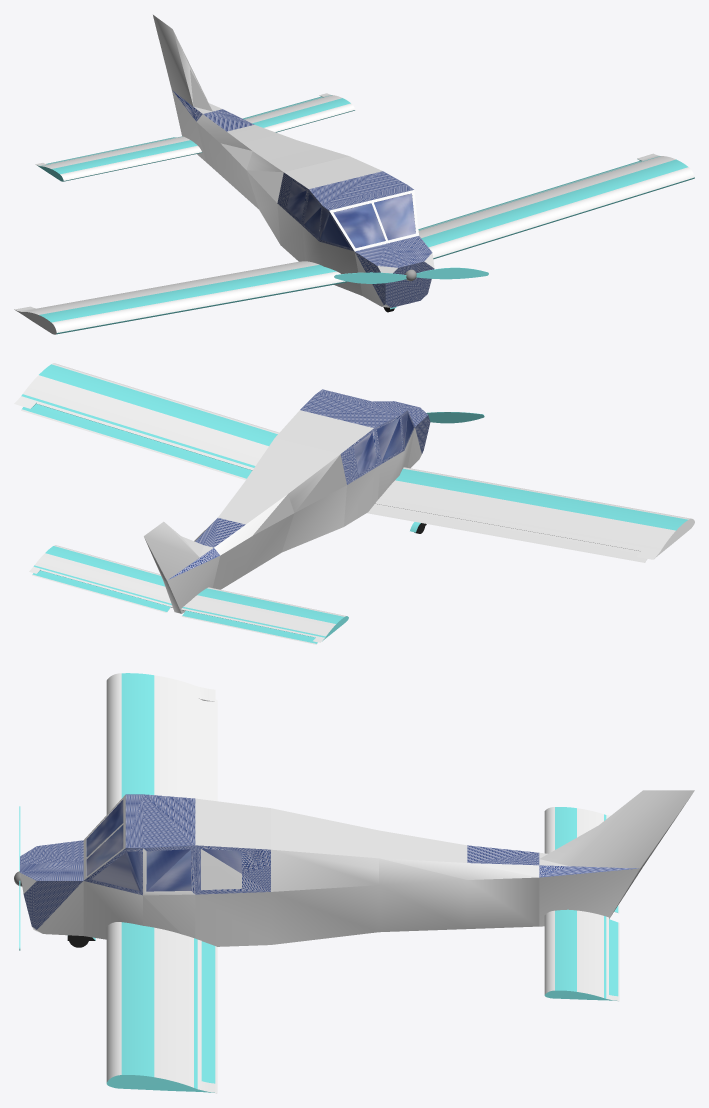
The model's file is This might work as plane test thing here u go matt.fbx.
3 renders of one model, top to bottom at view 1: azimuth 30°, elevation 25°; view 2: azimuth 150°, elevation 25°; view 3: azimuth 270°, elevation 25°, orthographic. The views are drawn at different scales.
Parts seen in each view (by area): view 1: Mesh10_Group1_AirPlane1_Model, Mesh7_Group1_AirPlane1_Model, Mesh4_Group1_AirPlane1_Model, Mesh3_Group1_AirPlane1_Model, Mesh2_Group1_AirPlane1_Model, Mesh8_Group1_AirPlane1_Model; view 2: Mesh10_Group1_AirPlane1_Model, Mesh4_Group1_AirPlane1_Model, Mesh7_Group1_AirPlane1_Model, Mesh3_Group1_AirPlane1_Model, Mesh2_Group1_AirPlane1_Model, Mesh8_Group1_AirPlane1_Model; view 3: Mesh10_Group1_AirPlane1_Model, Mesh7_Group1_AirPlane1_Model, Mesh4_Group1_AirPlane1_Model, Mesh2_Group1_AirPlane1_Model, Mesh3_Group1_AirPlane1_Model.
Boxes of the visible parts, x1,y1,x2,y2 form: Mesh10_Group1_AirPlane1_Model: [153, 15, 434, 307]; Mesh7_Group1_AirPlane1_Model: [418, 153, 694, 259]; Mesh4_Group1_AirPlane1_Model: [14, 261, 346, 334]; Mesh3_Group1_AirPlane1_Model: [35, 136, 202, 181]; Mesh2_Group1_AirPlane1_Model: [242, 93, 355, 132]; Mesh8_Group1_AirPlane1_Model: [334, 267, 488, 283]; Mesh10_Group1_AirPlane1_Model: [144, 389, 430, 613]; Mesh4_Group1_AirPlane1_Model: [367, 467, 694, 562]; Mesh7_Group1_AirPlane1_Model: [14, 363, 278, 479]; Mesh3_Group1_AirPlane1_Model: [180, 587, 348, 644]; Mesh2_Group1_AirPlane1_Model: [29, 545, 172, 612]; Mesh8_Group1_AirPlane1_Model: [426, 412, 484, 423]; Mesh10_Group1_AirPlane1_Model: [20, 790, 694, 946]; Mesh7_Group1_AirPlane1_Model: [106, 922, 217, 1093]; Mesh4_Group1_AirPlane1_Model: [106, 673, 217, 814]; Mesh2_Group1_AirPlane1_Model: [544, 909, 619, 1001]; Mesh3_Group1_AirPlane1_Model: [544, 807, 619, 913].
Bounding box in the file's own units: 370 × 67.35 × 264.
9 materials, 3 textured.
